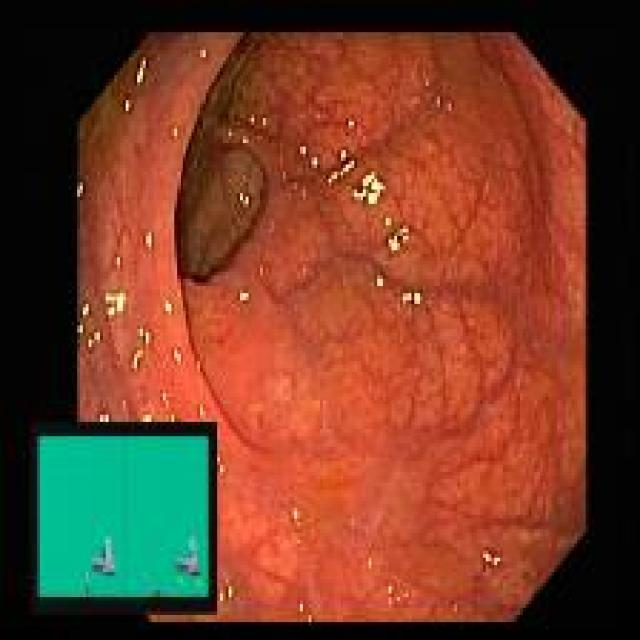ulcerative-colitis: (79, 33, 586, 623)
